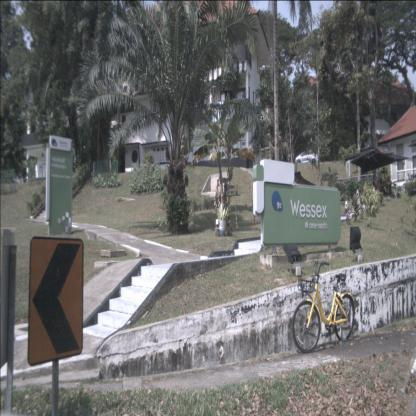vehicle-bicycle: (292, 260, 356, 354)
vehicle-car: (295, 150, 321, 167)
